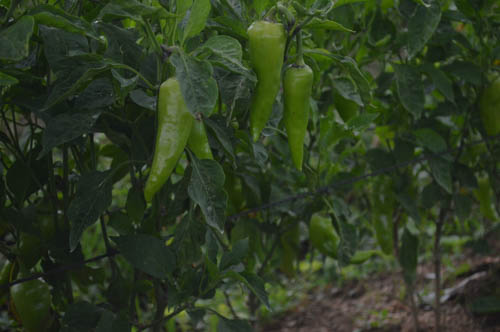ChiliPepper: (245, 20, 288, 150), (151, 79, 194, 202), (284, 67, 308, 165), (370, 173, 395, 251), (8, 283, 53, 325), (306, 215, 337, 253), (191, 124, 219, 160)
